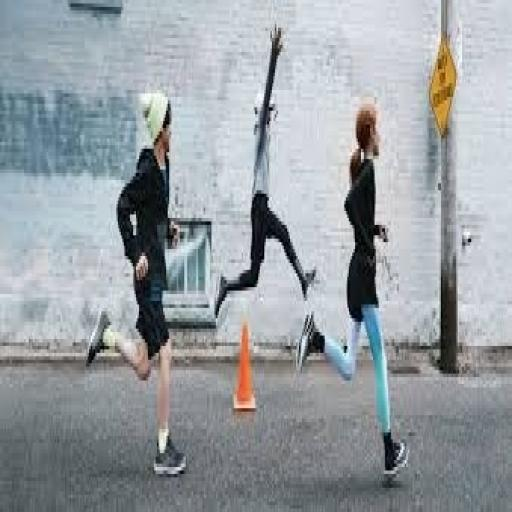running: (294, 97, 411, 484), (85, 83, 190, 481), (212, 20, 318, 328)
